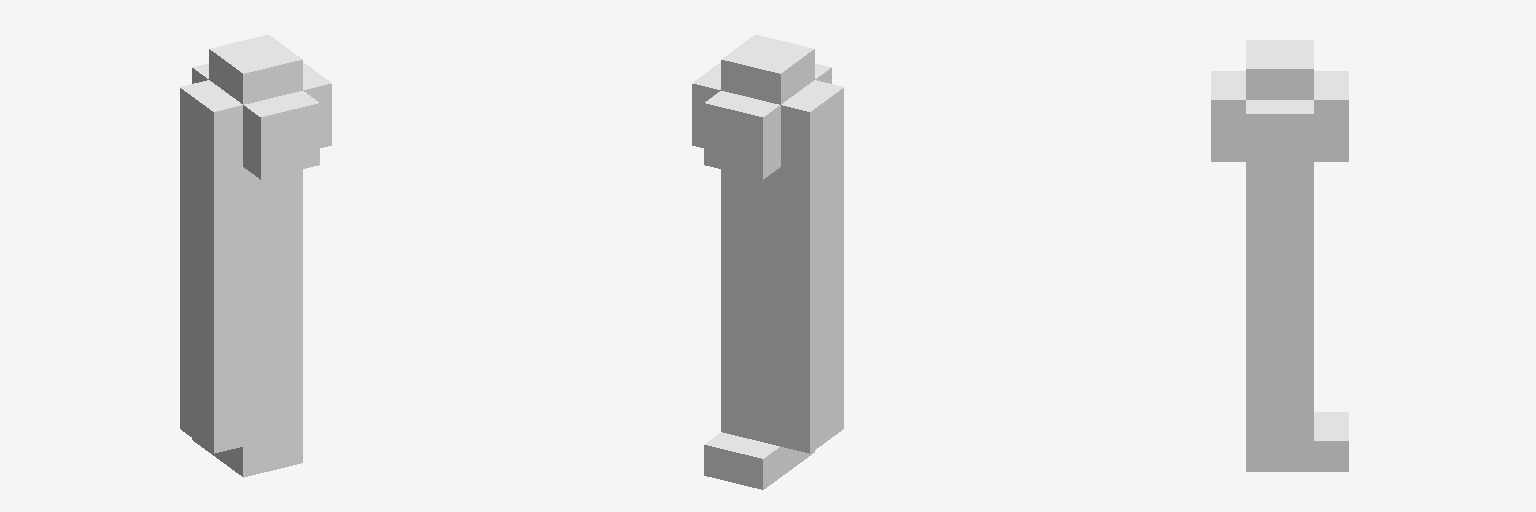
Rendered from a792_BasicGuard_Arm_R.obj.
3 renders of one model, left to right at view 1: azimuth 30°, elevation 25°; view 2: azimuth 150°, elevation 25°; view 3: azimuth 270°, elevation 25°, orthographic.
Size of the model in its own units: 4 by 13 by 4.